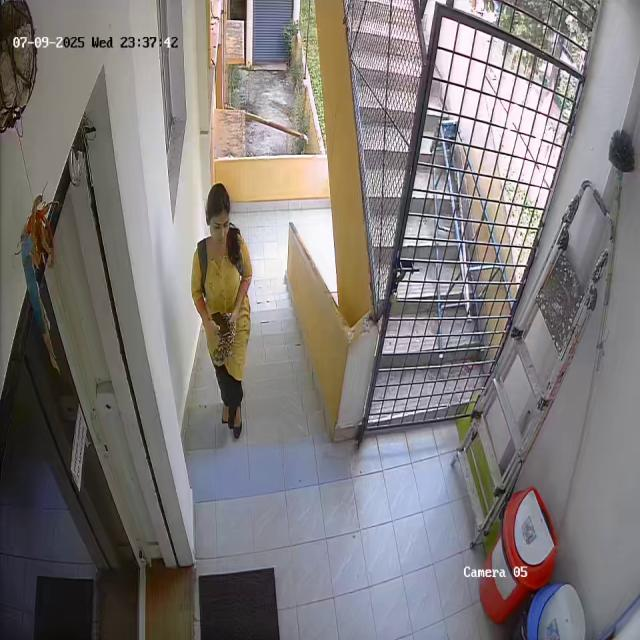person: (181, 180, 257, 445)
